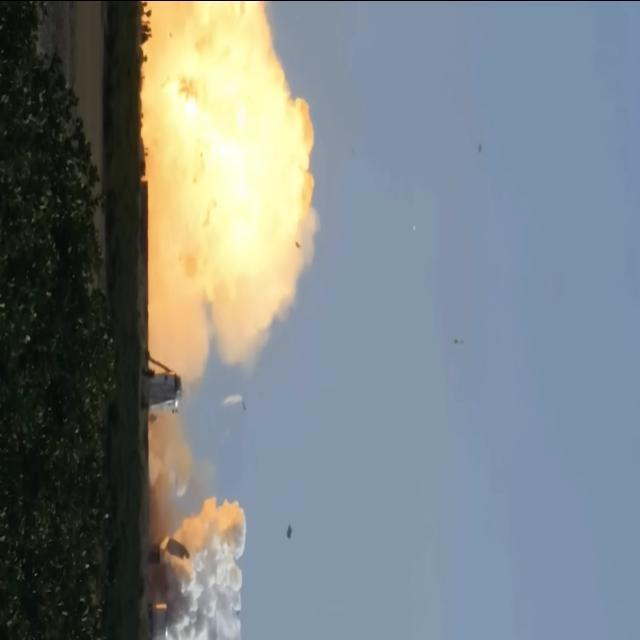Missile: (238, 392, 249, 417)
